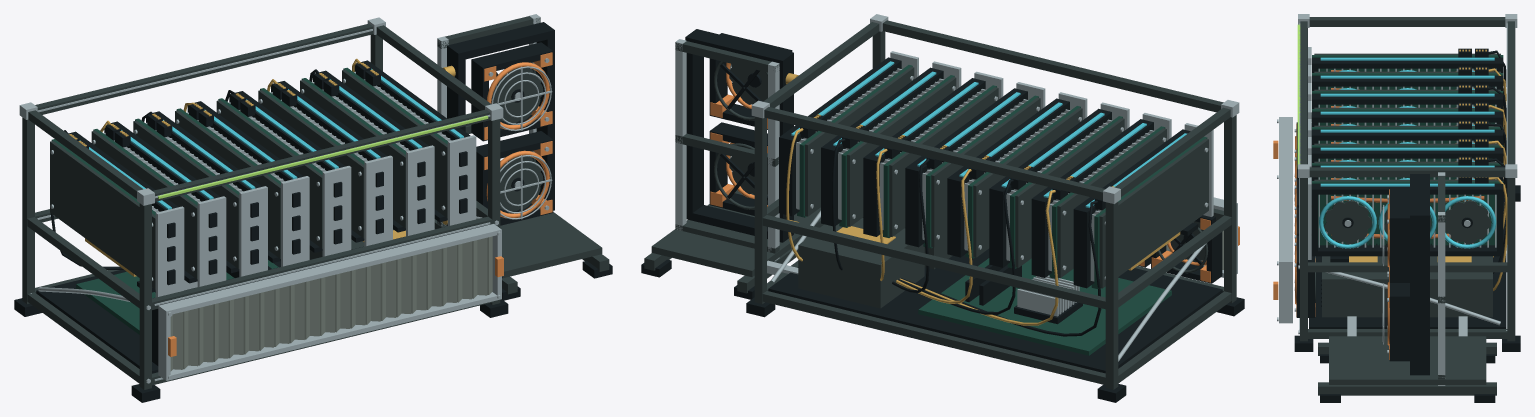
Rendered from rig-8-pleated-air.glb.
The picture shows the model from 3 angles, left to right: view 1: azimuth 30°, elevation 25°; view 2: azimuth 150°, elevation 25°; view 3: azimuth 270°, elevation 25°; orthographic projection. The views are drawn at different scales.
Parts seen in each view (by area): view 1: Brushed aluminium (×13), Anodized graphite (×4), Rubber and ABS (×12), gpu-triple (×8), Filter fibres, Industrial orange (×2), Circuit board, rig-8-pleated-air; view 2: Anodized graphite (×3), Rubber and ABS (×13), gpu-triple (×8), Brushed aluminium (×10), Circuit board, slot-cable-1, slot-cable-2, slot-cable-3, slot-cable-4, Industrial orange, slot-cable-5; view 3: Anodized graphite (×4), Rubber and ABS (×14), gpu-triple (×8), Brushed aluminium (×10), Coolant blue (×8), rig-8-pleated-air, Contacts, Copper heat pipes, slot-cable-8.
Boxes of the visible parts, <box> form: Brushed aluminium (×13): <box>19,14,552,383</box>; Anodized graphite (×4): <box>22,16,609,389</box>; Rubber and ABS (×12): <box>14,22,554,402</box>; gpu-triple (×8): <box>50,67,447,289</box>; Filter fibres: <box>170,236,492,371</box>; Industrial orange (×2): <box>484,52,552,218</box>; Circuit board: <box>76,260,278,334</box>; rig-8-pleated-air: <box>158,115,488,198</box>; Anodized graphite (×3): <box>644,20,1236,389</box>; Rubber and ABS (×13): <box>685,29,1244,402</box>; gpu-triple (×8): <box>799,65,1208,288</box>; Brushed aluminium (×10): <box>675,14,1239,361</box>; Circuit board: <box>797,211,1171,355</box>; slot-cable-1: <box>901,200,1101,336</box>; slot-cable-2: <box>900,190,1058,325</box>; slot-cable-3: <box>898,179,1015,314</box>; slot-cable-4: <box>896,169,972,303</box>; Industrial orange: <box>710,132,767,207</box>; slot-cable-5: <box>892,158,929,293</box>; Anodized graphite (×4): <box>1300,17,1515,395</box>; Rubber and ABS (×14): <box>1294,48,1520,402</box>; gpu-triple (×8): <box>1312,53,1503,245</box>; Brushed aluminium (×10): <box>1279,14,1517,385</box>; Coolant blue (×8): <box>1319,57,1496,248</box>; rig-8-pleated-air: <box>1297,24,1300,168</box>; Contacts: <box>1349,256,1471,262</box>; Copper heat pipes: <box>1331,196,1484,238</box>; slot-cable-8: <box>1488,177,1507,290</box>.
Size of the model in its own units: 8.02 by 3.32 by 4.01.
